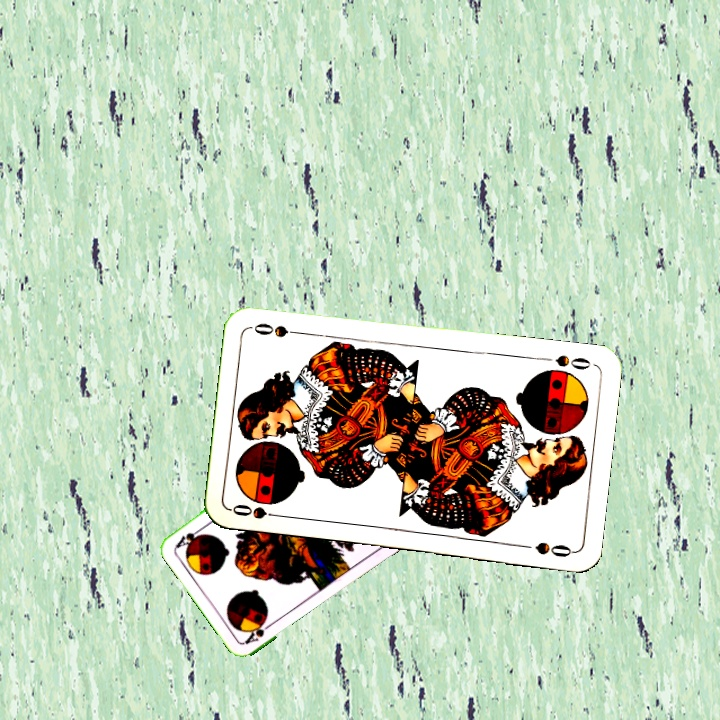SA: (241, 615, 277, 647)
SO: (228, 500, 287, 522), (551, 351, 593, 372)
